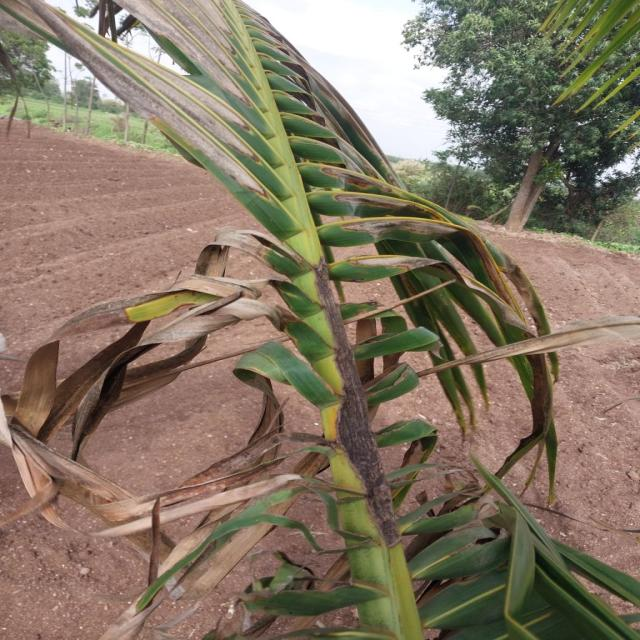leaf rot: (0, 233, 459, 616)
